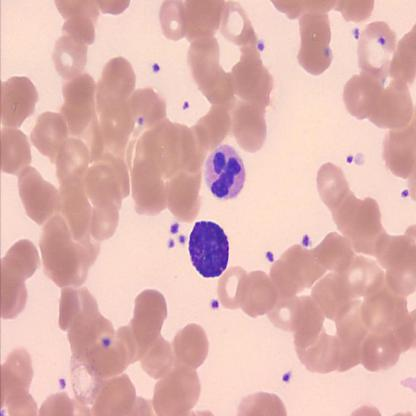Basophil: (187, 217, 231, 282)
